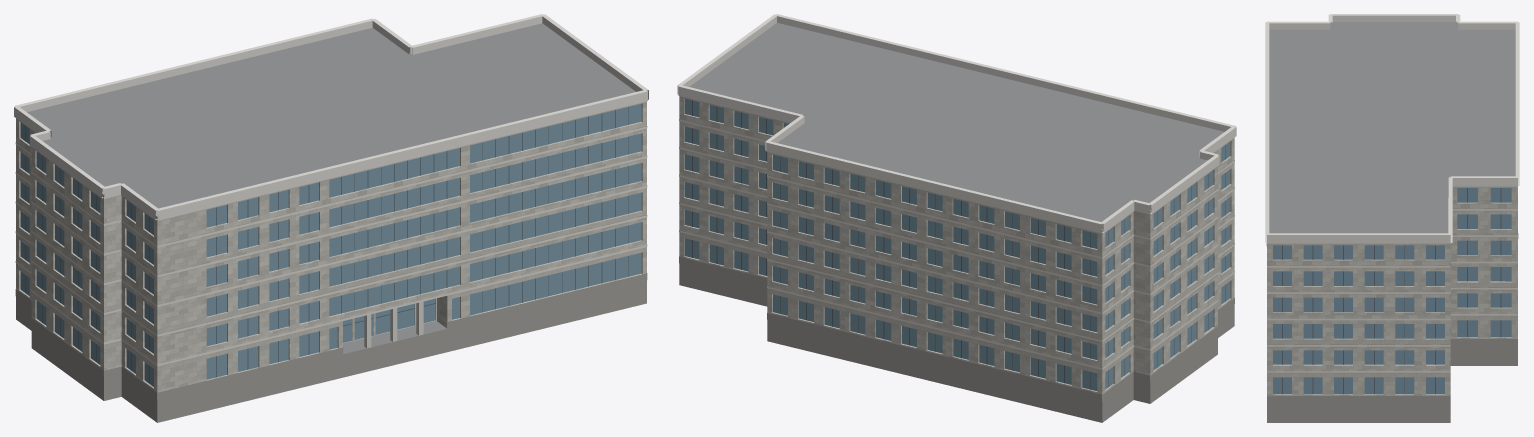
3 views of the same model, side by side, from view 1: azimuth 30°, elevation 25°; view 2: azimuth 150°, elevation 25°; view 3: azimuth 270°, elevation 25° (orthographic). The views are drawn at different scales.
Parts seen in each view (by area): view 1: law__roof, law__wall, law__glass, law__trim, law__base, law__frame, law__column; view 2: law__wall, law__roof, law__glass, law__trim, law__base, law__frame; view 3: law__roof, law__wall, law__glass, law__trim, law__base, law__frame.
Boxes of the visible parts, x1,y1,x2,y2 form: law__roof: [27, 23, 635, 353]; law__wall: [16, 101, 646, 399]; law__glass: [20, 103, 641, 386]; law__trim: [14, 14, 648, 365]; law__base: [15, 273, 647, 422]; law__frame: [25, 107, 628, 384]; law__column: [364, 301, 423, 348]; law__wall: [679, 96, 1234, 400]; law__roof: [690, 22, 1223, 229]; law__glass: [684, 99, 1229, 390]; law__trim: [677, 14, 1236, 369]; law__base: [679, 256, 1234, 422]; law__frame: [692, 100, 1225, 389]; law__roof: [1269, 22, 1515, 233]; law__wall: [1267, 186, 1517, 396]; law__glass: [1273, 188, 1511, 394]; law__trim: [1265, 14, 1519, 372]; law__base: [1266, 233, 1518, 422]; law__frame: [1282, 188, 1501, 394].
Bounding box in the file's own units: 68.58 × 27.3 × 33.38.
8 materials, 1 textured.
